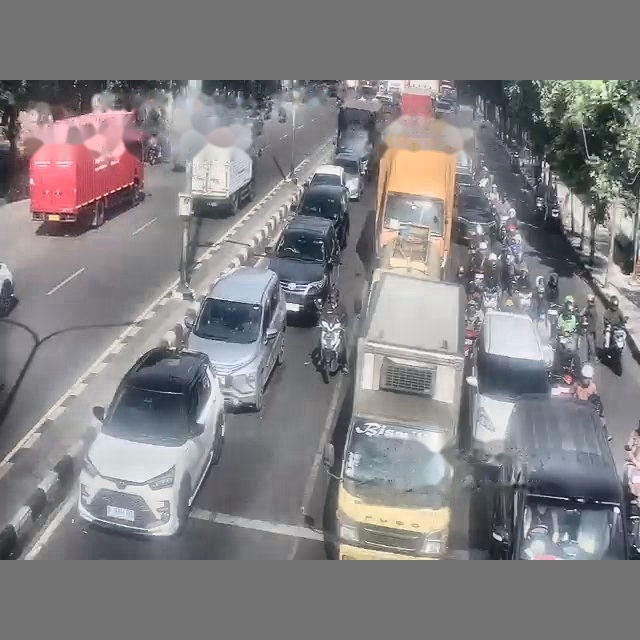Mobil: (77, 347, 225, 536), (490, 396, 628, 559), (185, 266, 286, 411), (466, 310, 550, 459), (265, 215, 339, 319), (297, 184, 349, 249), (457, 189, 496, 241), (334, 153, 365, 200), (307, 164, 346, 187), (0, 262, 14, 316)
Motor: (318, 314, 344, 383), (624, 461, 639, 555), (601, 323, 626, 374), (547, 303, 560, 341), (144, 136, 161, 165), (535, 197, 545, 216)
Truk: (336, 269, 465, 559), (374, 116, 461, 279), (29, 110, 143, 227), (187, 143, 258, 214), (400, 87, 432, 117)
